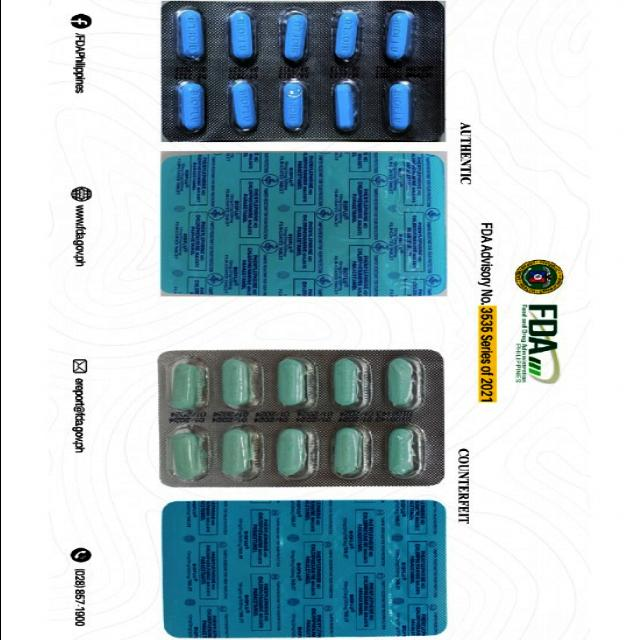authentic: (163, 3, 447, 143), (163, 152, 445, 292)
counterfeit: (160, 502, 448, 640), (160, 348, 443, 486)
